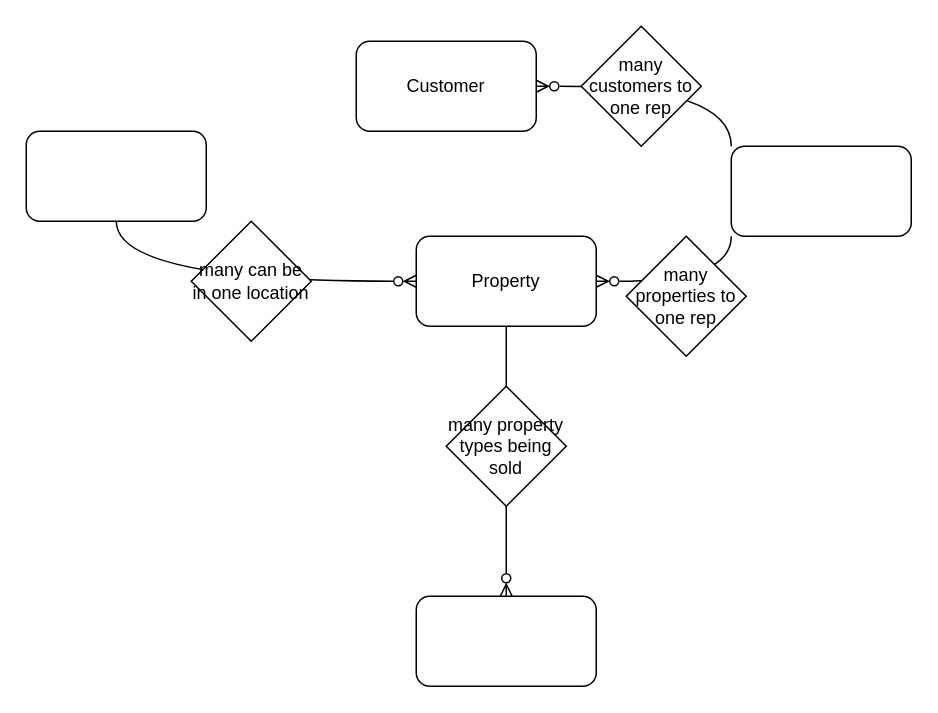
This 938x713 diagram has some shape labels left out. The shapes that lost their labels are listed below. From the top down, each one's box as (x1, y1, x2, y2) in pixels, then its label:
(25, 130, 206, 221): Location
(730, 145, 911, 236): Salesrep
(415, 595, 596, 686): Property type
